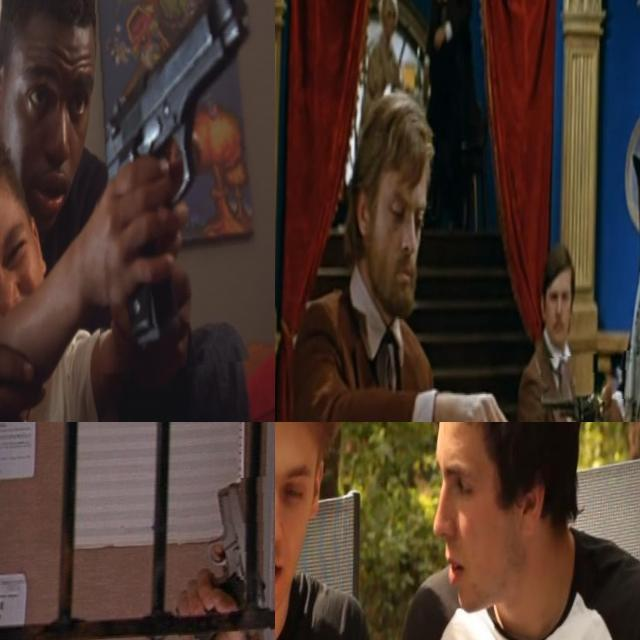gun-knife-thesis - v11 Yolov5 augmented: (91, 0, 268, 378), (175, 479, 274, 640), (542, 355, 635, 422)
